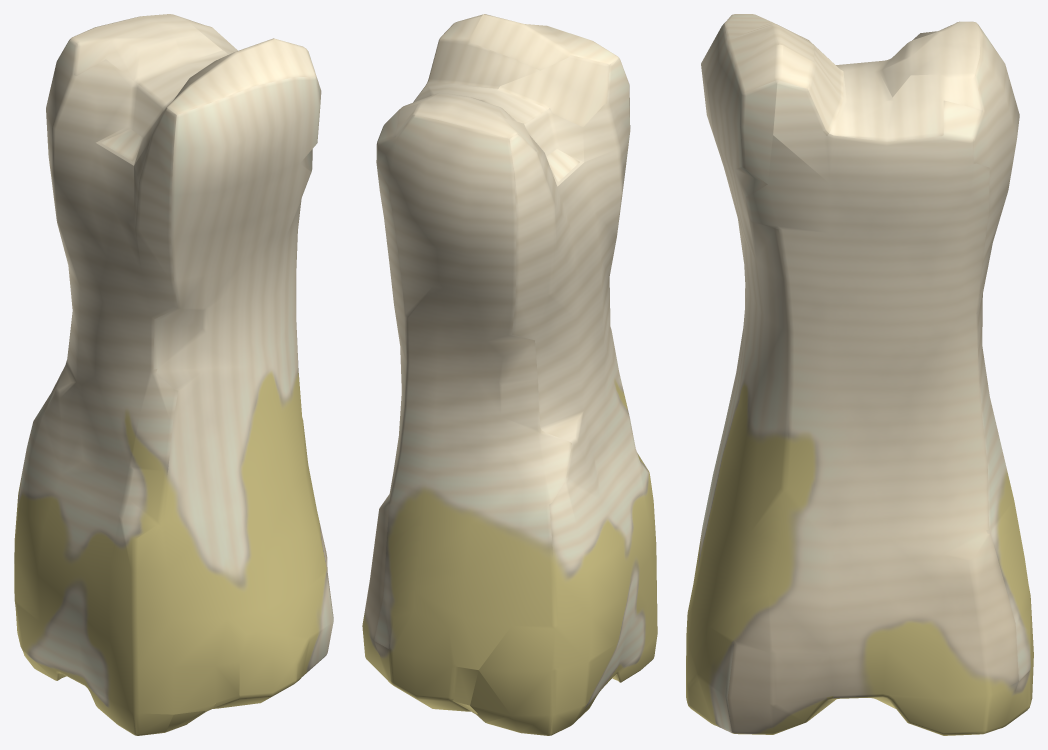
Rendered from Soldier_Bone_1.fbx.
3 views of the same model, side by side, from view 1: azimuth 30°, elevation 25°; view 2: azimuth 150°, elevation 25°; view 3: azimuth 270°, elevation 25° (orthographic). The views are drawn at different scales.
Visible parts, largest first — view 1: Soldier_bone_1; view 2: Soldier_bone_1; view 3: Soldier_bone_1.
Boxes of the visible parts, x1,y1,x2,y2 form: Soldier_bone_1: (14,14,333,735); Soldier_bone_1: (362,14,657,735); Soldier_bone_1: (686,14,1033,735).
Size of the model in its own units: 45.61 by 118 by 52.
